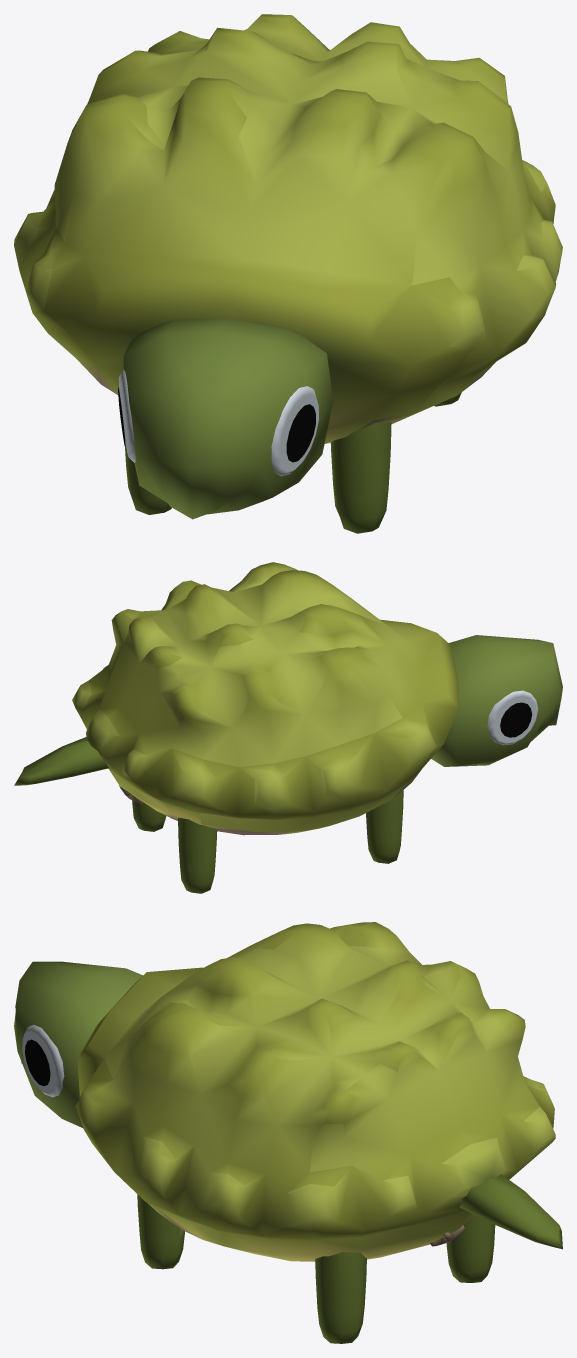
The model's file is SnappingTurtle.glb.
3 views of the same model, one above another, from view 1: azimuth 30°, elevation 25°; view 2: azimuth 150°, elevation 25°; view 3: azimuth 270°, elevation 25° (orthographic). The views are drawn at different scales.
Parts seen in each view (by area): view 1: 156; view 2: 156; view 3: 156.
Boxes of the visible parts, bbox=[...] form: 156: bbox=[14, 14, 562, 533]; 156: bbox=[14, 562, 562, 893]; 156: bbox=[14, 922, 562, 1343].
Bounding box in the file's own units: 0.8522 × 0.5756 × 0.9037.
